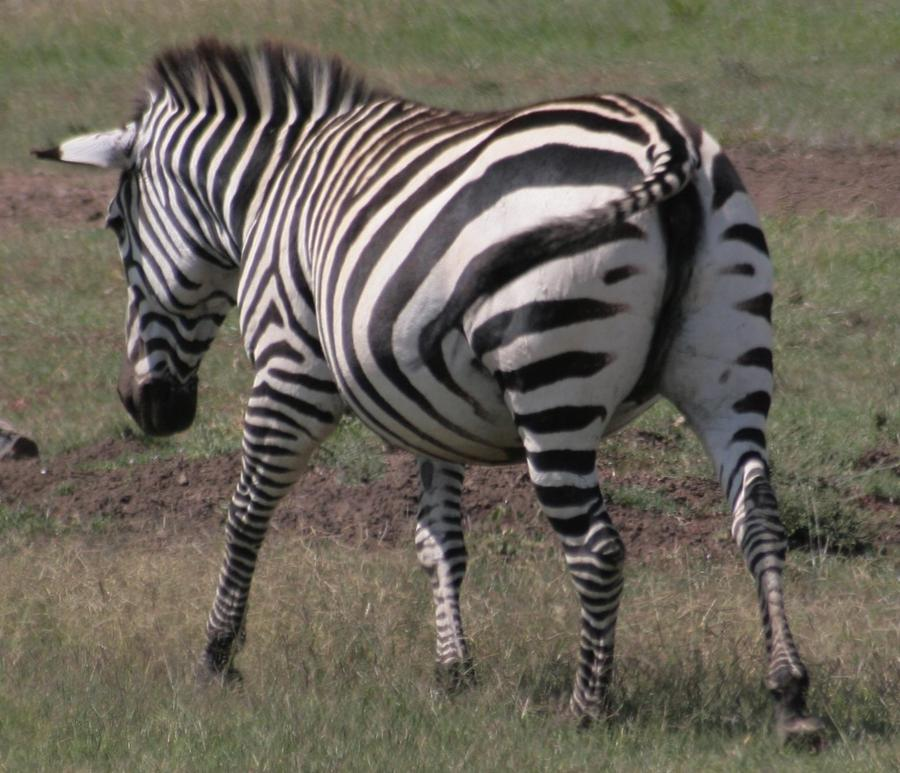zebra_plains: (222, 82, 633, 465)
